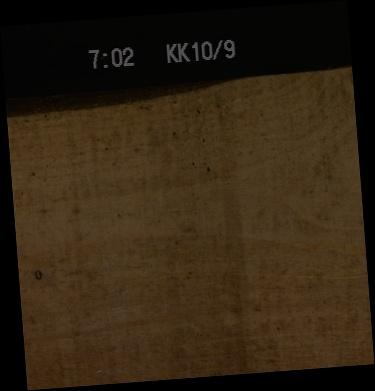dry_knot: (33, 266, 42, 280)
wave: (5, 86, 235, 108)
